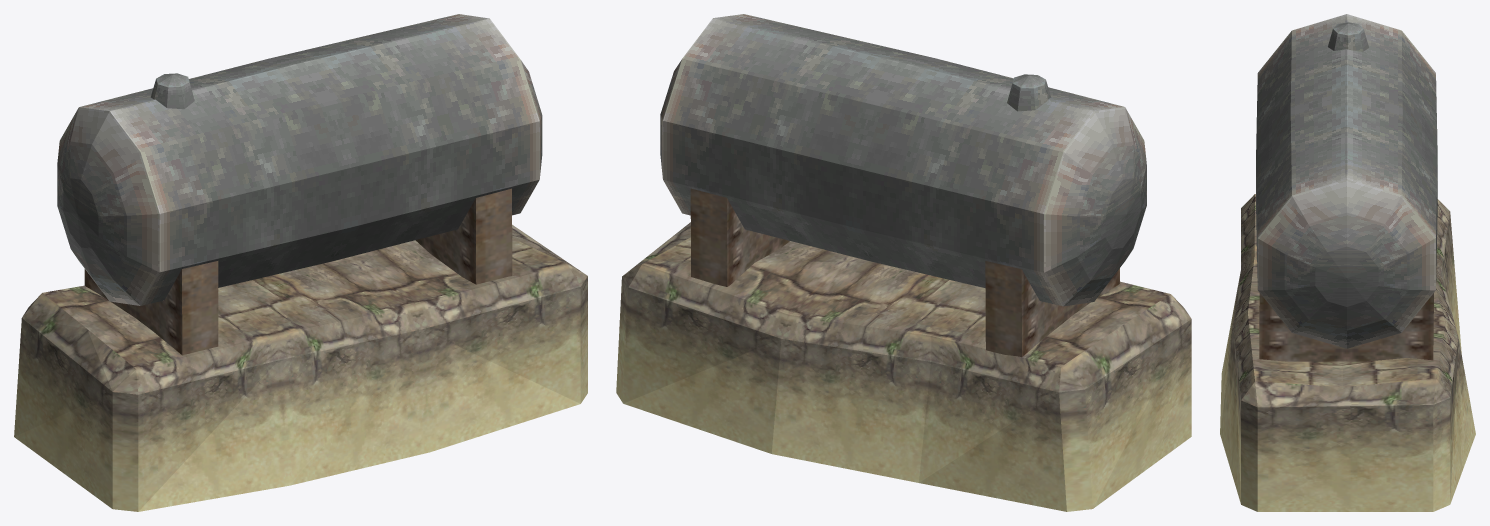
The model's file is C3SMFUELTANK1H.obj.
The picture shows the model from 3 angles, left to right: view 1: azimuth 30°, elevation 25°; view 2: azimuth 150°, elevation 25°; view 3: azimuth 270°, elevation 25°; orthographic projection. The views are drawn at different scales.
Parts seen in each view (by area): view 1: Node 0, Node 1; view 2: Node 0, Node 1; view 3: Node 1, Node 0.
Boxes of the visible parts, box(x1,y1,x2,y2) form: Node 0: box(14, 188, 587, 511); Node 1: box(57, 14, 542, 305); Node 0: box(616, 188, 1191, 511); Node 1: box(660, 14, 1146, 306); Node 1: box(1256, 14, 1437, 348); Node 0: box(1220, 194, 1475, 511).
Bounding box in the file's own units: 11.58 × 8.62 × 6.06.
3 materials, 3 textured.
